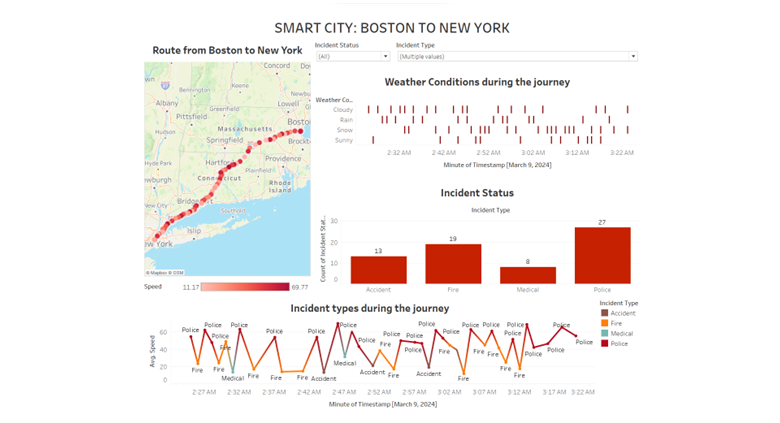

The dashboard page shown, as its layout file describes it:
{"tool":"tableau","page":{"name":"Dashboard 1","canvas":[1000,800],"ordinal":0},"visuals":[{"type":"title","box":[8,8,984,45]},{"type":"worksheet","title":"Sheet 1","mark":"Automatic","rows":["latitude"],"cols":["longitude"],"box":[8,53,336,473.2]},{"type":"filter","title":"Sheet 3","param":"[federated.0i7qqa00sc83x51c3pvwp0chw6n3].[none:incident_status:nk]","box":[344,53,160,63]},{"type":"filter","title":"Sheet 2","param":"[federated.0i7qqa00sc83x51c3pvwp0chw6n3].[none:incident_type:nk]","box":[504,53,488,52]},{"type":"worksheet","title":"Sheet 3","mark":"Automatic","rows":["weather_condition"],"cols":["timestamp"],"box":[344,116,648,205]},{"type":"worksheet","title":"Sheet 2","mark":"Automatic","rows":["incident_status"],"cols":["incident_type"],"box":[344,334,648,227.2]},{"type":"legend","title":"Sheet 1","param":"[federated.0i7qqa00sc83x51c3pvwp0chw6n3].[sum:speed:qk]","box":[8,526.2,336,35.1]},{"type":"worksheet","title":"Sheet 4","mark":"Line","rows":["speed"],"cols":["timestamp"],"box":[8,561.2,897,230.8]},{"type":"legend","title":"Sheet 4","param":"[federated.0i7qqa00sc83x51c3pvwp0chw6n3].[attr:incident_type:nk]","box":[905,561.2,87,230.8]}]}

Visuals, with their boxes on the page's 1000x800 design canvas (x1, y1, x2, y2). These are canvas units, not pixel positions in the 780x423 screenshot, which may show the page scaled, cropped or inside an application window:
title: {"x1": 8, "y1": 8, "x2": 992, "y2": 53}
"Sheet 1" worksheet: {"x1": 8, "y1": 53, "x2": 344, "y2": 526}
"Sheet 3" filter: {"x1": 344, "y1": 53, "x2": 504, "y2": 116}
"Sheet 2" filter: {"x1": 504, "y1": 53, "x2": 992, "y2": 105}
"Sheet 3" worksheet: {"x1": 344, "y1": 116, "x2": 992, "y2": 321}
"Sheet 2" worksheet: {"x1": 344, "y1": 334, "x2": 992, "y2": 561}
"Sheet 1" legend: {"x1": 8, "y1": 526, "x2": 344, "y2": 561}
"Sheet 4" worksheet (Line marks): {"x1": 8, "y1": 561, "x2": 905, "y2": 792}
"Sheet 4" legend: {"x1": 905, "y1": 561, "x2": 992, "y2": 792}
